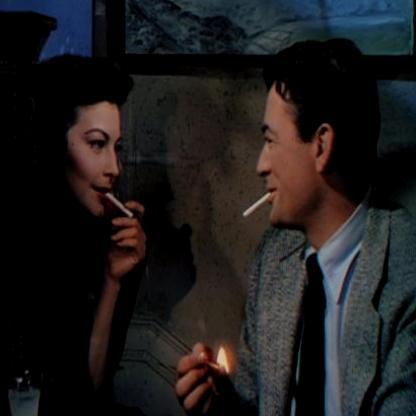cigarette: (240, 190, 275, 222), (105, 188, 136, 219)
person: (252, 41, 416, 416), (0, 55, 149, 378)
